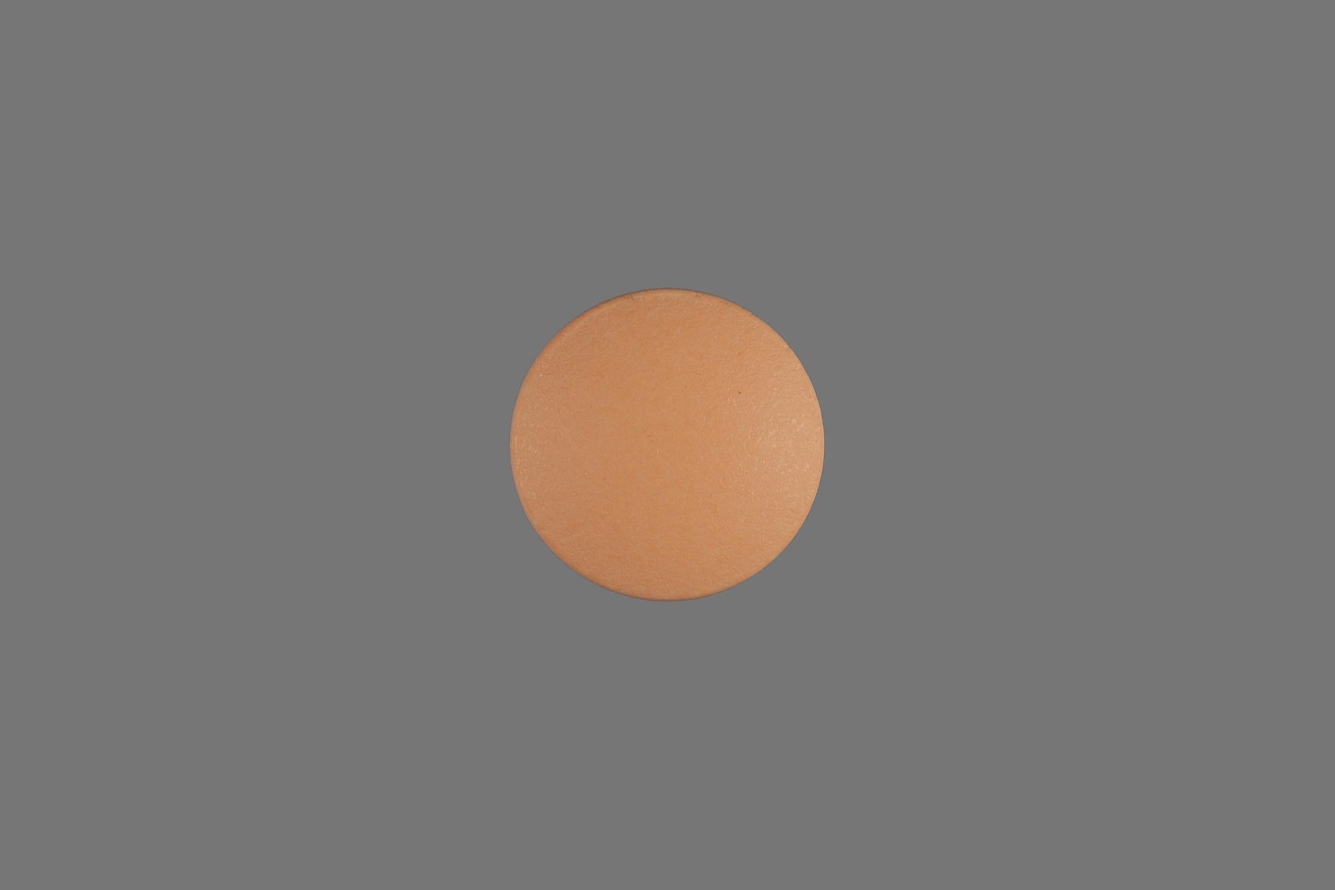Pill: (499, 276, 840, 608)
